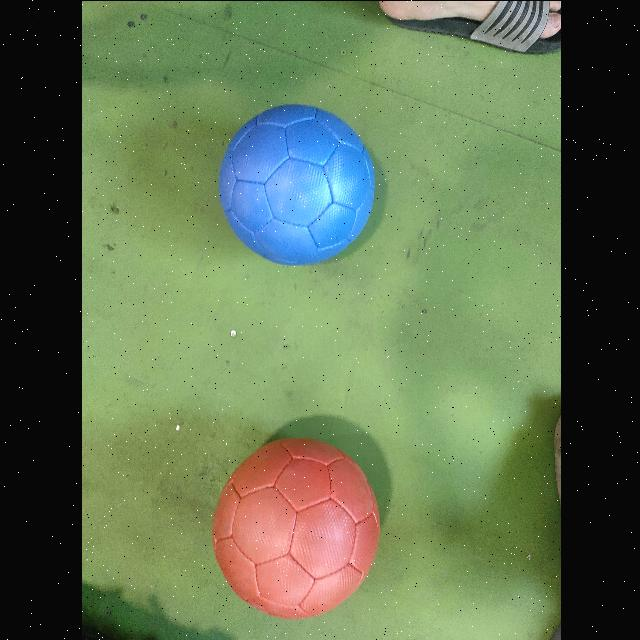B: (217, 104, 373, 264)
R: (210, 438, 379, 618)
